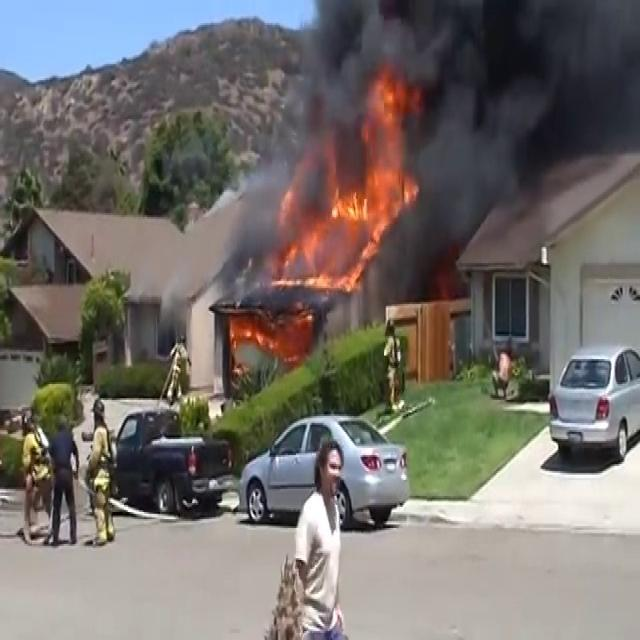Fire: (329, 79, 422, 268)
Smoke: (227, 0, 640, 251)
